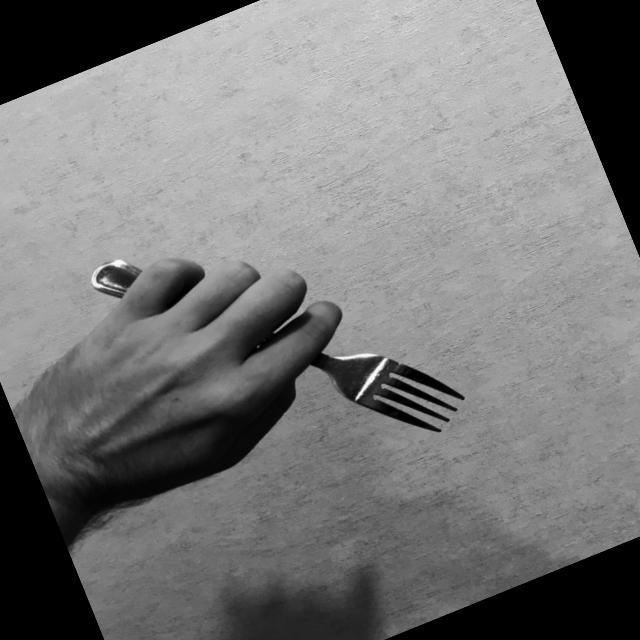fork: (86, 151, 476, 532)
